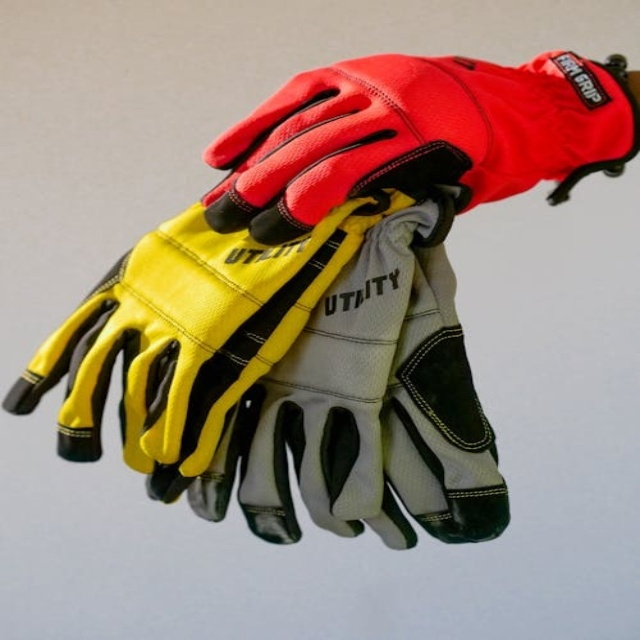Guantes: (177, 39, 636, 266)
